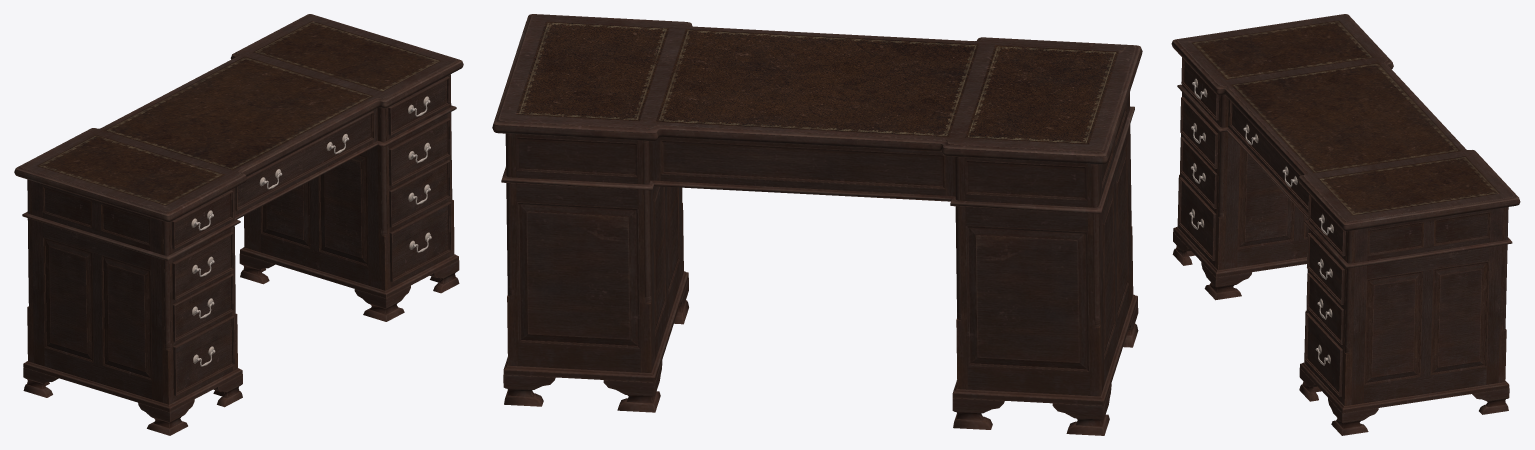
File: antique_desk.glb
The picture shows the model from 3 angles, left to right: view 1: azimuth 30°, elevation 25°; view 2: azimuth 150°, elevation 25°; view 3: azimuth 270°, elevation 25°; orthographic projection. The views are drawn at different scales.
Visible parts, largest first — view 1: Desk_low, Draw 2_low, Draw 1_low, Draw 3_low; view 2: Desk_low; view 3: Desk_low, Draw 2_low, Draw 3_low, Draw 1_low.
Part boxes in pixels (x1,y1,x2,y2): Desk_low: [14, 14, 463, 435]; Draw 2_low: [235, 111, 374, 210]; Draw 1_low: [172, 190, 233, 249]; Draw 3_low: [388, 76, 449, 135]; Desk_low: [492, 14, 1142, 435]; Desk_low: [1171, 14, 1520, 435]; Draw 2_low: [1229, 101, 1308, 209]; Draw 3_low: [1308, 193, 1345, 256]; Draw 1_low: [1181, 57, 1219, 120].
Bounding box in the file's own units: 3.46 × 1.69 × 2.41.
1 material, 1 textured.
